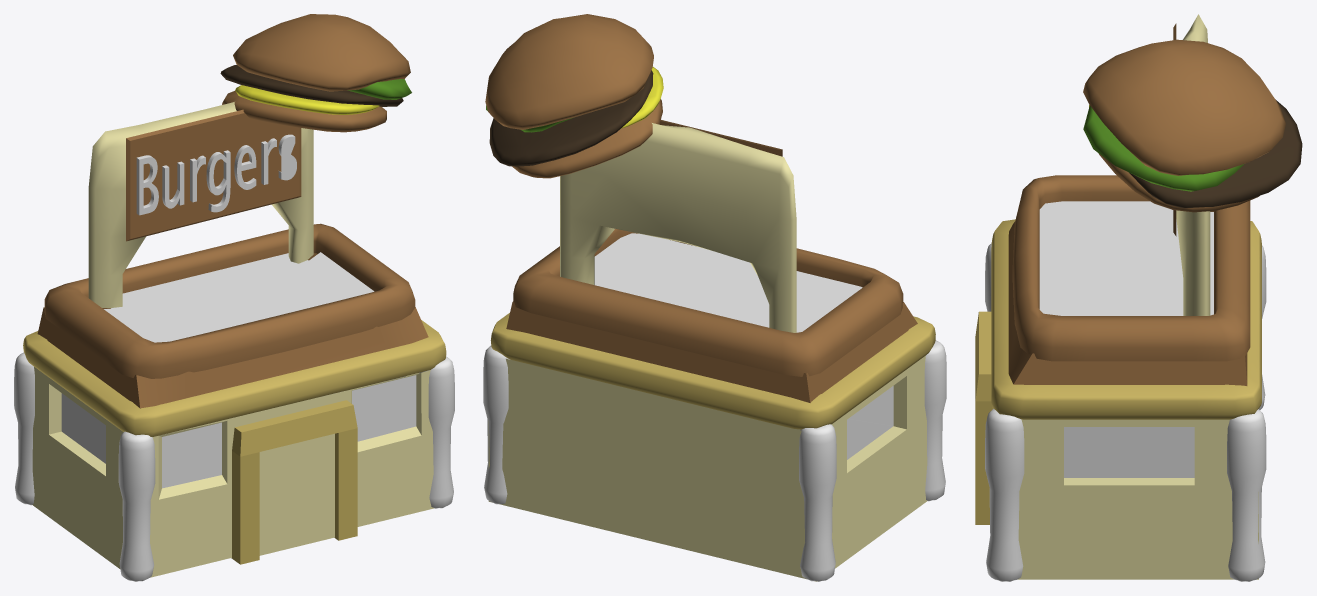
The model's file is Burgerhouse.fbx.
3 renders of one model, left to right at view 1: azimuth 30°, elevation 25°; view 2: azimuth 150°, elevation 25°; view 3: azimuth 270°, elevation 25°, orthographic. The views are drawn at different scales.
Visible parts, largest first — view 1: polySurface8, polySurface1, polySurface7, polySurface6, polySurface5, pCube5, pCube8, typeMesh1, pCylinder6, pCylinder3, pCube1, pCylinder5 (+3 smaller); view 2: polySurface8, polySurface5, polySurface1, polySurface7, pCube5, pCube2, pCylinder5, pCylinder4, pCylinder6, pCube1, pCube3; view 3: polySurface8, polySurface1, pCube5, polySurface7, pCylinder3, pCylinder4, pCube2, polySurface5, pCube8, pCube4, pCube1, pCylinder6.
Part boxes in pixels (x1=…): polySurface8: x1=32, y1=252, x2=433, y2=577; polySurface1: x1=44, y1=223, x2=415, y2=378; polySurface7: x1=23, y1=320, x2=446, y2=436; polySurface6: x1=126, y1=109, x2=301, y2=241; polySurface5: x1=88, y1=102, x2=313, y2=308; pCube5: x1=233, y1=14, x2=410, y2=91; pCube8: x1=231, y1=400, x2=357, y2=564; typeMesh1: x1=136, y1=134, x2=296, y2=215; pCylinder6: x1=118, y1=431, x2=155, y2=581; pCylinder3: x1=419, y1=356, x2=454, y2=508; pCube1: x1=222, y1=91, x2=386, y2=132; pCylinder5: x1=14, y1=352, x2=34, y2=505; polySurface8: x1=488, y1=233, x2=927, y2=581; polySurface5: x1=560, y1=123, x2=796, y2=332; polySurface1: x1=513, y1=229, x2=903, y2=376; polySurface7: x1=490, y1=313, x2=935, y2=429; pCube5: x1=485, y1=14, x2=653, y2=129; pCube2: x1=489, y1=70, x2=653, y2=166; pCylinder5: x1=799, y1=424, x2=836, y2=581; pCylinder4: x1=483, y1=345, x2=509, y2=504; pCylinder6: x1=924, y1=340, x2=946, y2=501; pCube1: x1=512, y1=99, x2=662, y2=178; pCube3: x1=621, y1=66, x2=663, y2=128; polySurface8: x1=1008, y1=201, x2=1258, y2=579; polySurface1: x1=1012, y1=175, x2=1250, y2=361; pCube5: x1=1083, y1=39, x2=1285, y2=175; polySurface7: x1=991, y1=219, x2=1261, y2=419; pCylinder3: x1=985, y1=408, x2=1024, y2=581; pCylinder4: x1=1227, y1=409, x2=1266, y2=581; pCube2: x1=1129, y1=99, x2=1302, y2=208; polySurface5: x1=1176, y1=14, x2=1210, y2=315; pCube8: x1=975, y1=311, x2=992, y2=524; pCube4: x1=1083, y1=106, x2=1243, y2=191; pCube1: x1=1098, y1=153, x2=1259, y2=212; pCylinder6: x1=985, y1=243, x2=991, y2=311.
Bounding box in the file's own units: 32.73 × 39.03 × 22.97.
